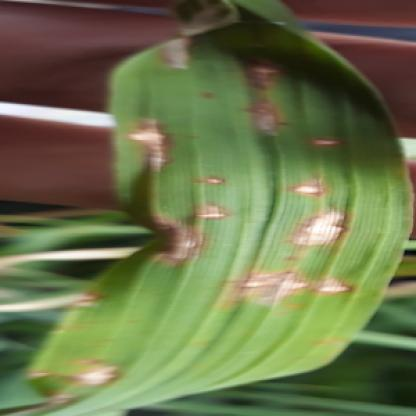Rice blast: (129, 169, 238, 273), (221, 270, 374, 309), (21, 355, 129, 410), (271, 201, 356, 255), (124, 111, 180, 176), (248, 51, 284, 137), (296, 116, 356, 154)
